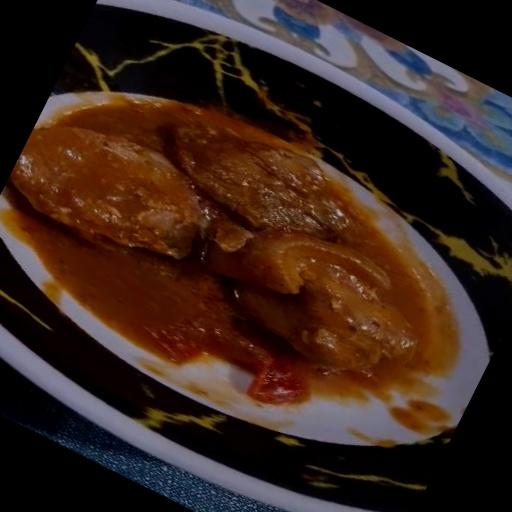pork caldereta: (13, 104, 448, 387)
